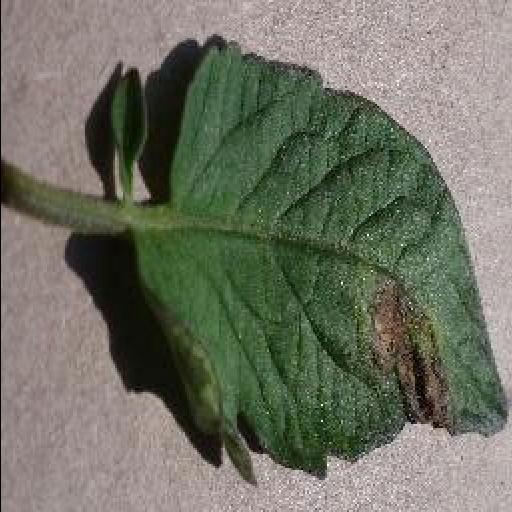disease_tomato: (133, 40, 507, 488)
